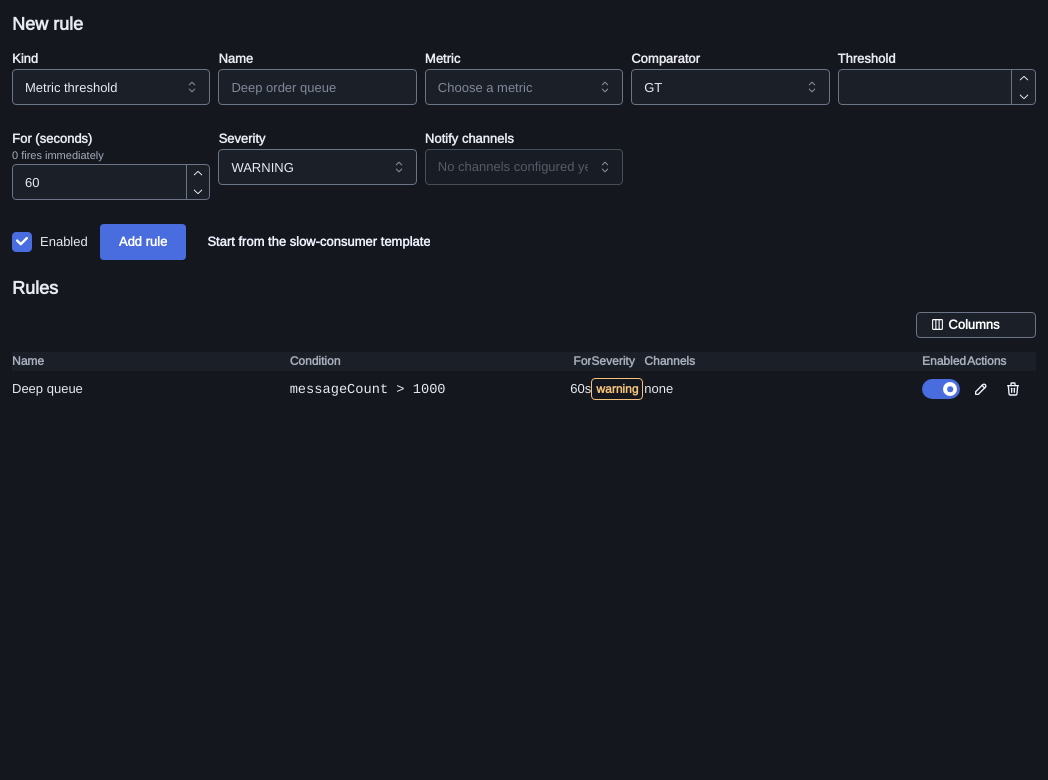
Test: RulesPanel › says a rule was switched off, and says why and what next when it was not
Click the switch named "Disable Deep queue" at (941,389), box [922, 379, 960, 399]
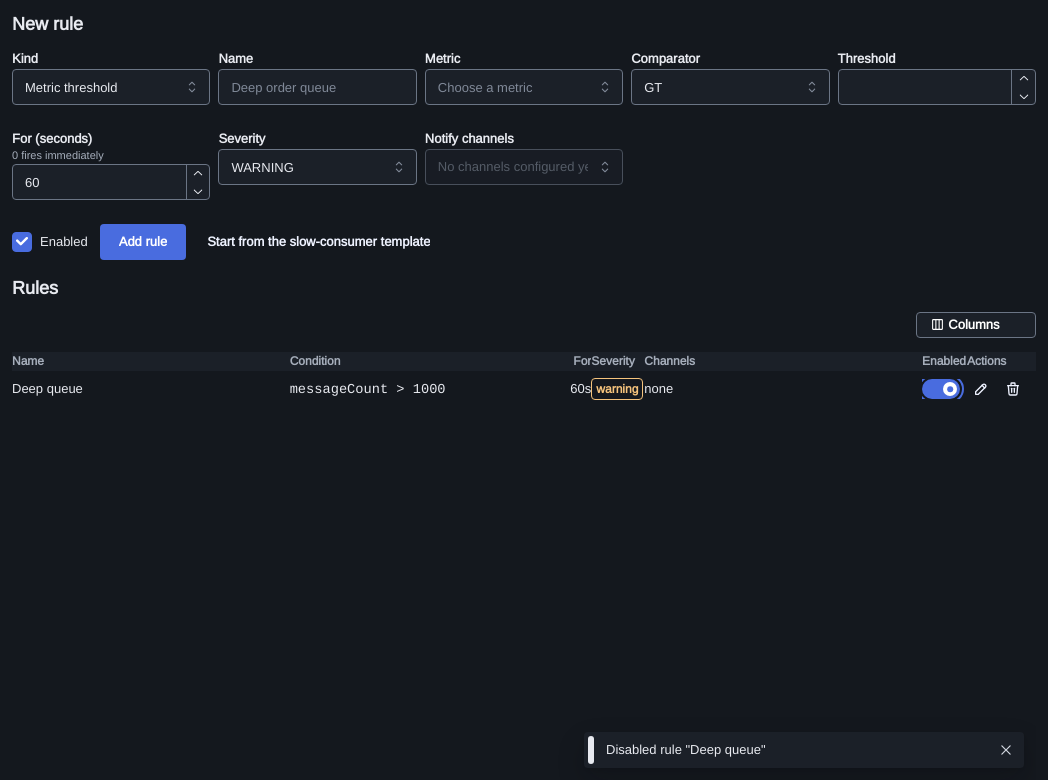
Expected: the text "Disabled rule \"Deep queue\"" is shown, [606, 741, 766, 758]
Click the switch named "Disable Deep queue" at (941,389), box [922, 379, 960, 399]
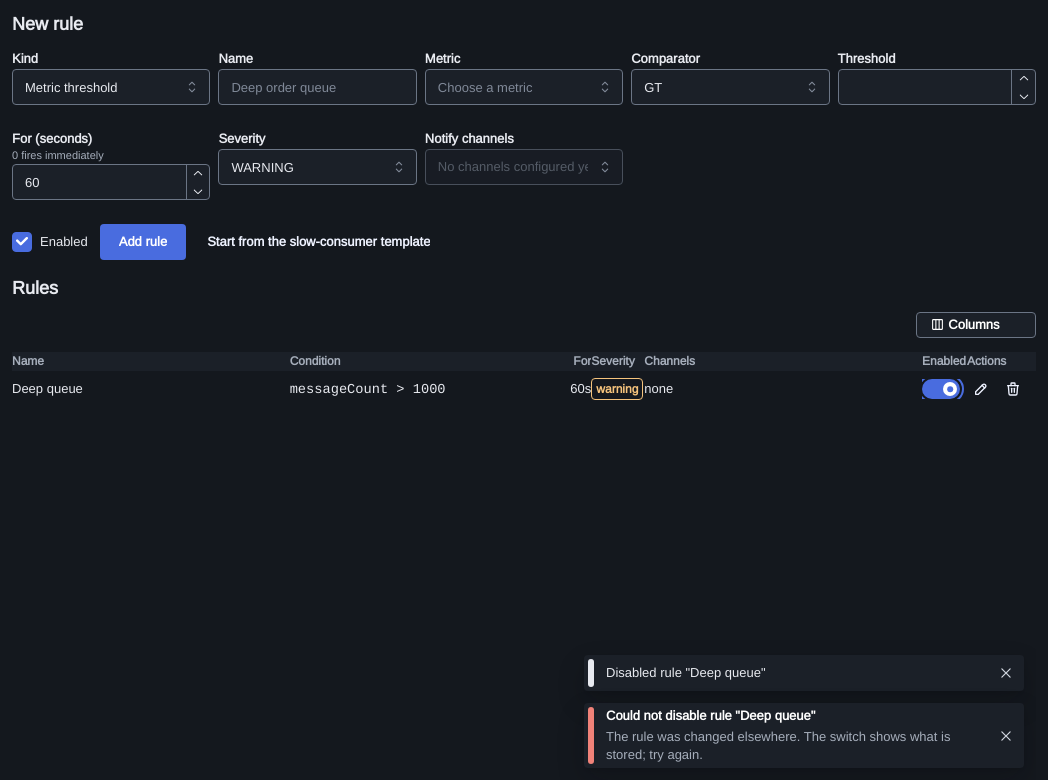
Expected: the message that starts with "Could not disable rule \"Deep queue\"" shows "Could not disable rule \"Deep queue\"", [606, 707, 815, 724]
Expected: the message that starts with "Could not disable rule \"Deep queue\"" shows "The rule was changed elsewhere. The switch shows what is stored; try again.", [606, 728, 950, 763]
